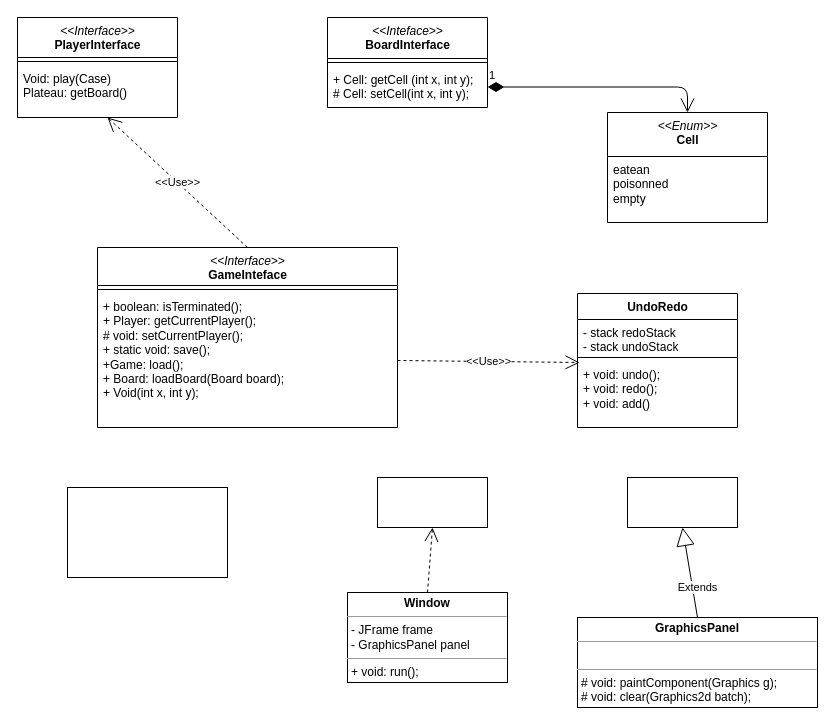
This 835x725 diagram has some shape labels left out. The centre of each missing label's shape, as x and y in pixels:
"JComponent" goes at point 682,502.
"Program + void: main();" goes at point 147,532.
"Runnable" goes at point 432,502.
